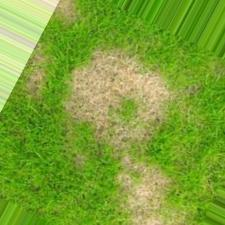patch: (75, 66, 162, 142), (120, 154, 167, 225)
